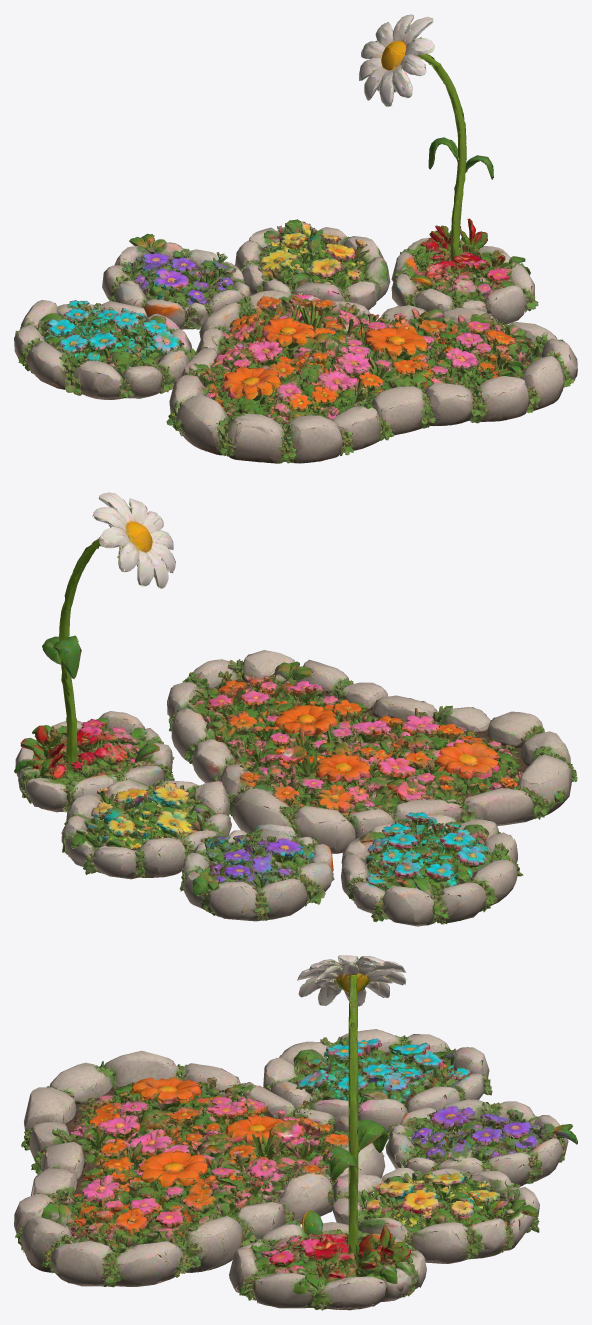
Rendered from pebble-blossom.glb.
3 views of the same model, one above another, from view 1: azimuth 30°, elevation 25°; view 2: azimuth 150°, elevation 25°; view 3: azimuth 270°, elevation 25° (orthographic). The views are drawn at different scales.
Visible parts, largest first — view 1: Mesh_0; view 2: Mesh_0; view 3: Mesh_0.
Boxes of the visible parts, <box> form: Mesh_0: <box>14,14,577,463</box>; Mesh_0: <box>14,492,577,926</box>; Mesh_0: <box>14,955,577,1310</box>.
Bounding box in the file's own units: 1.9 × 1.09 × 1.75.
1 material, 1 textured.
